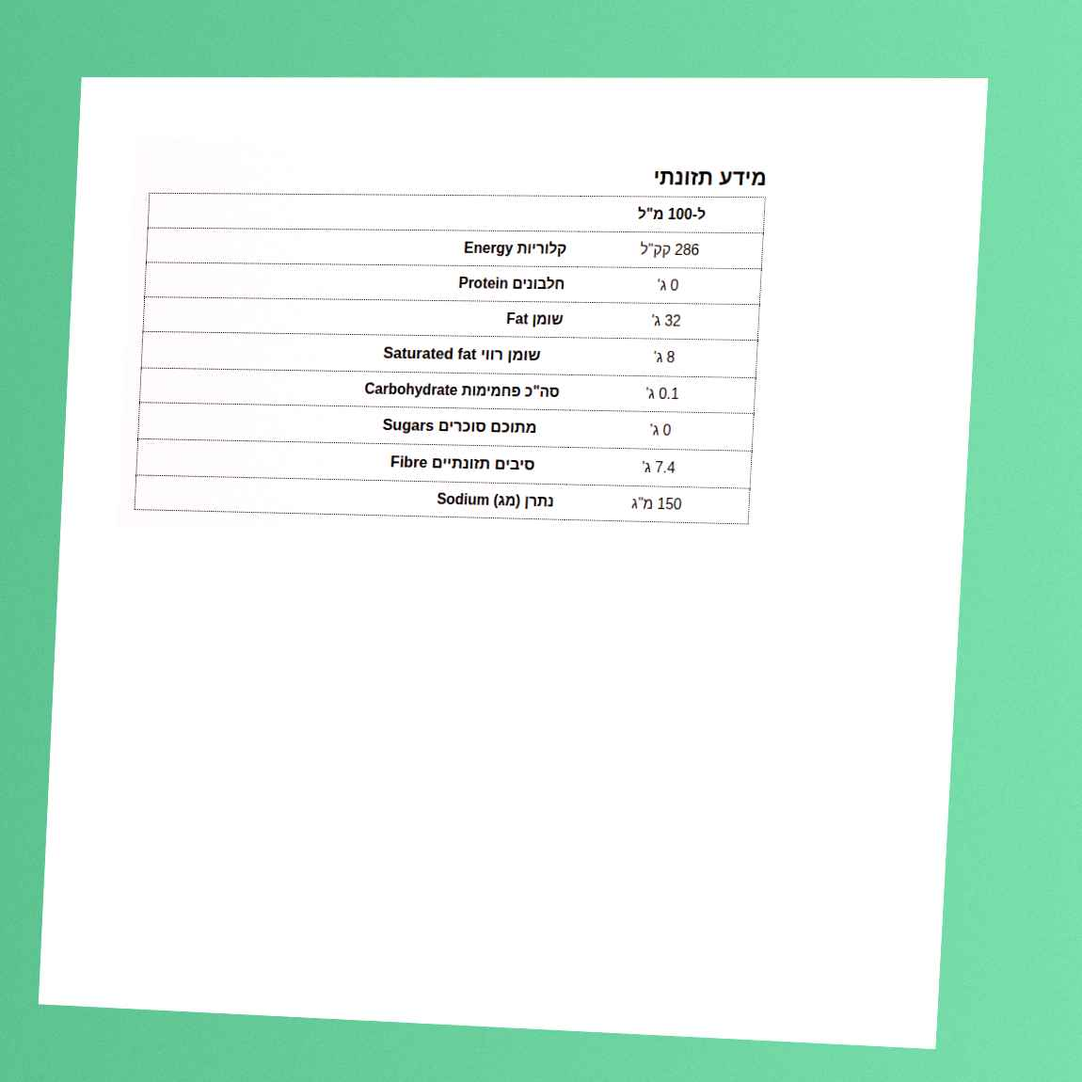carbs: (643, 383, 682, 404)
energy: (638, 239, 702, 260)
fat: (649, 310, 683, 331)
protein: (655, 275, 681, 295)
